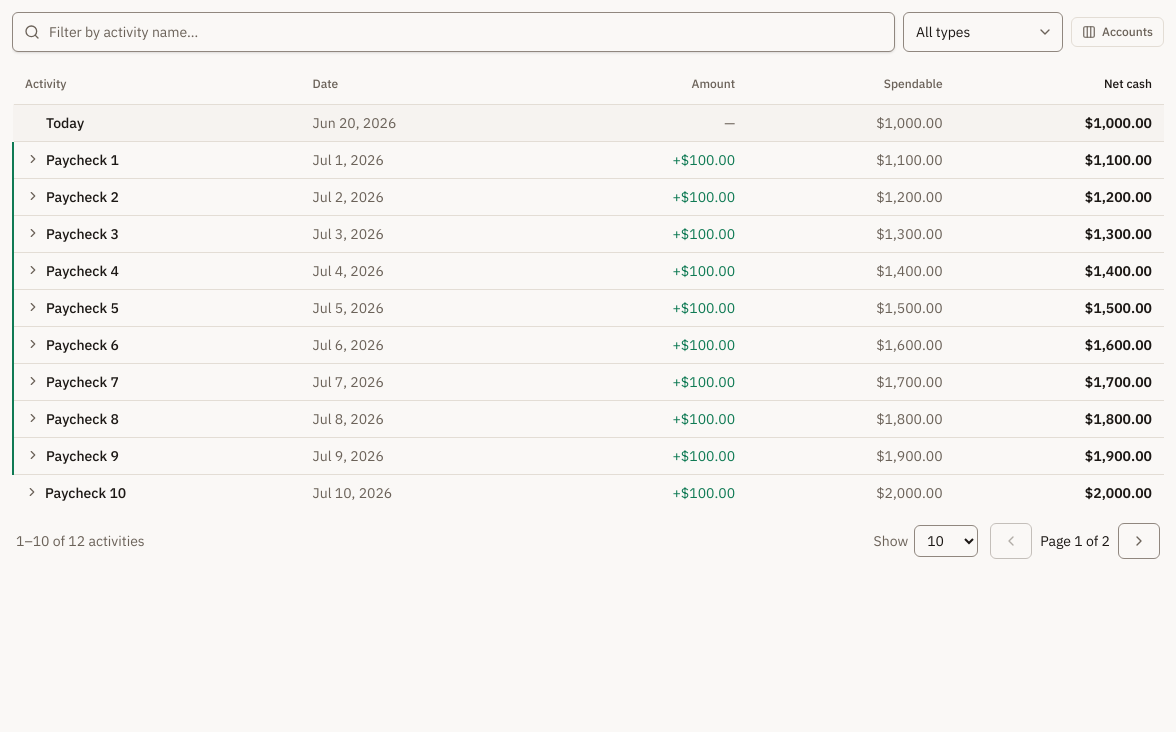
Test: ProjectedActivityTable › paginates the activities (default 10) while keeping TODAY pinned
Expected: the text "Today" is shown, x1=46 y1=114 x2=84 y2=132
Expected: the text "Paycheck 1" is shown, x1=46 y1=150 x2=119 y2=170
# Next page: TODAY still pinned, the remaining activities show.
Click the button named "next page" at (1139, 540), box x1=1118 y1=522 x2=1160 y2=558
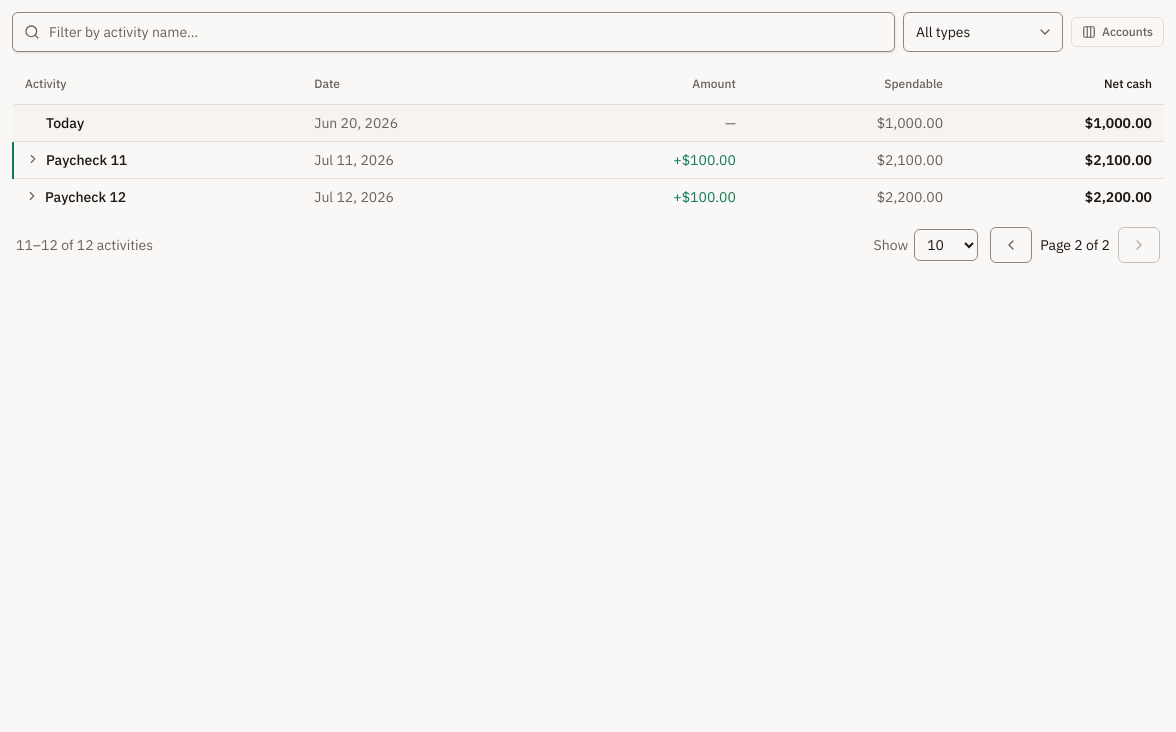
Expected: the text "Today" is shown, x1=46 y1=114 x2=84 y2=132
Result: the text "Paycheck 11" is shown at x1=46 y1=150 x2=127 y2=170
Result: the text "Paycheck 12" is shown at x1=45 y1=186 x2=126 y2=206
